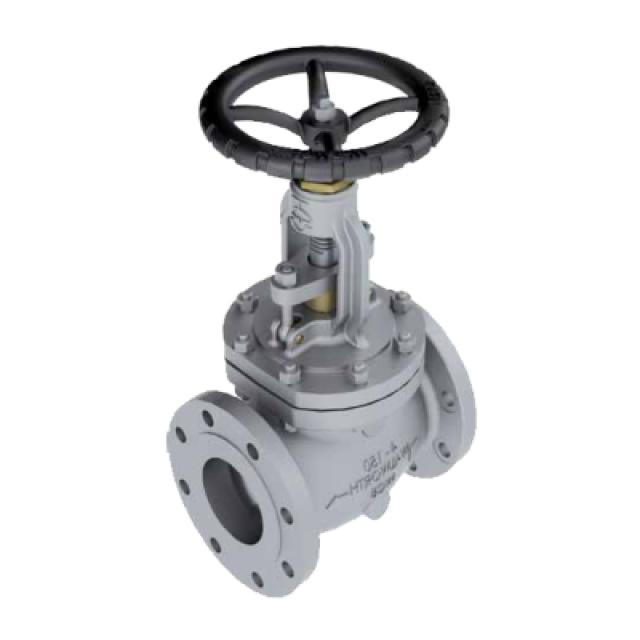Wheel Handle Valve Threaded: (182, 34, 463, 190)
